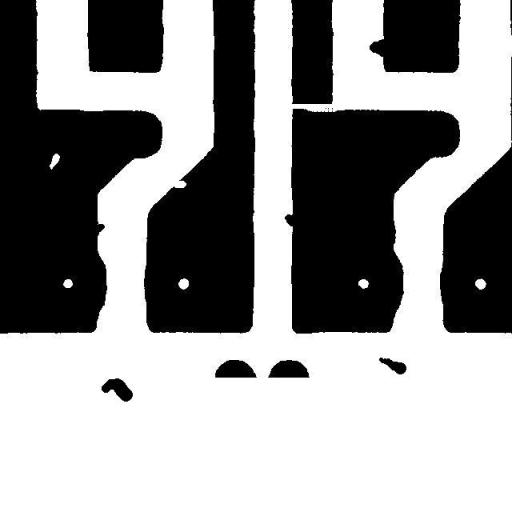copper: (94, 370, 140, 409), (371, 350, 414, 382)
mousebite: (164, 173, 194, 195)
open: (278, 96, 346, 119)
pin-hole: (42, 146, 67, 176)
spur: (362, 31, 396, 64), (277, 206, 306, 234), (88, 216, 112, 239)
